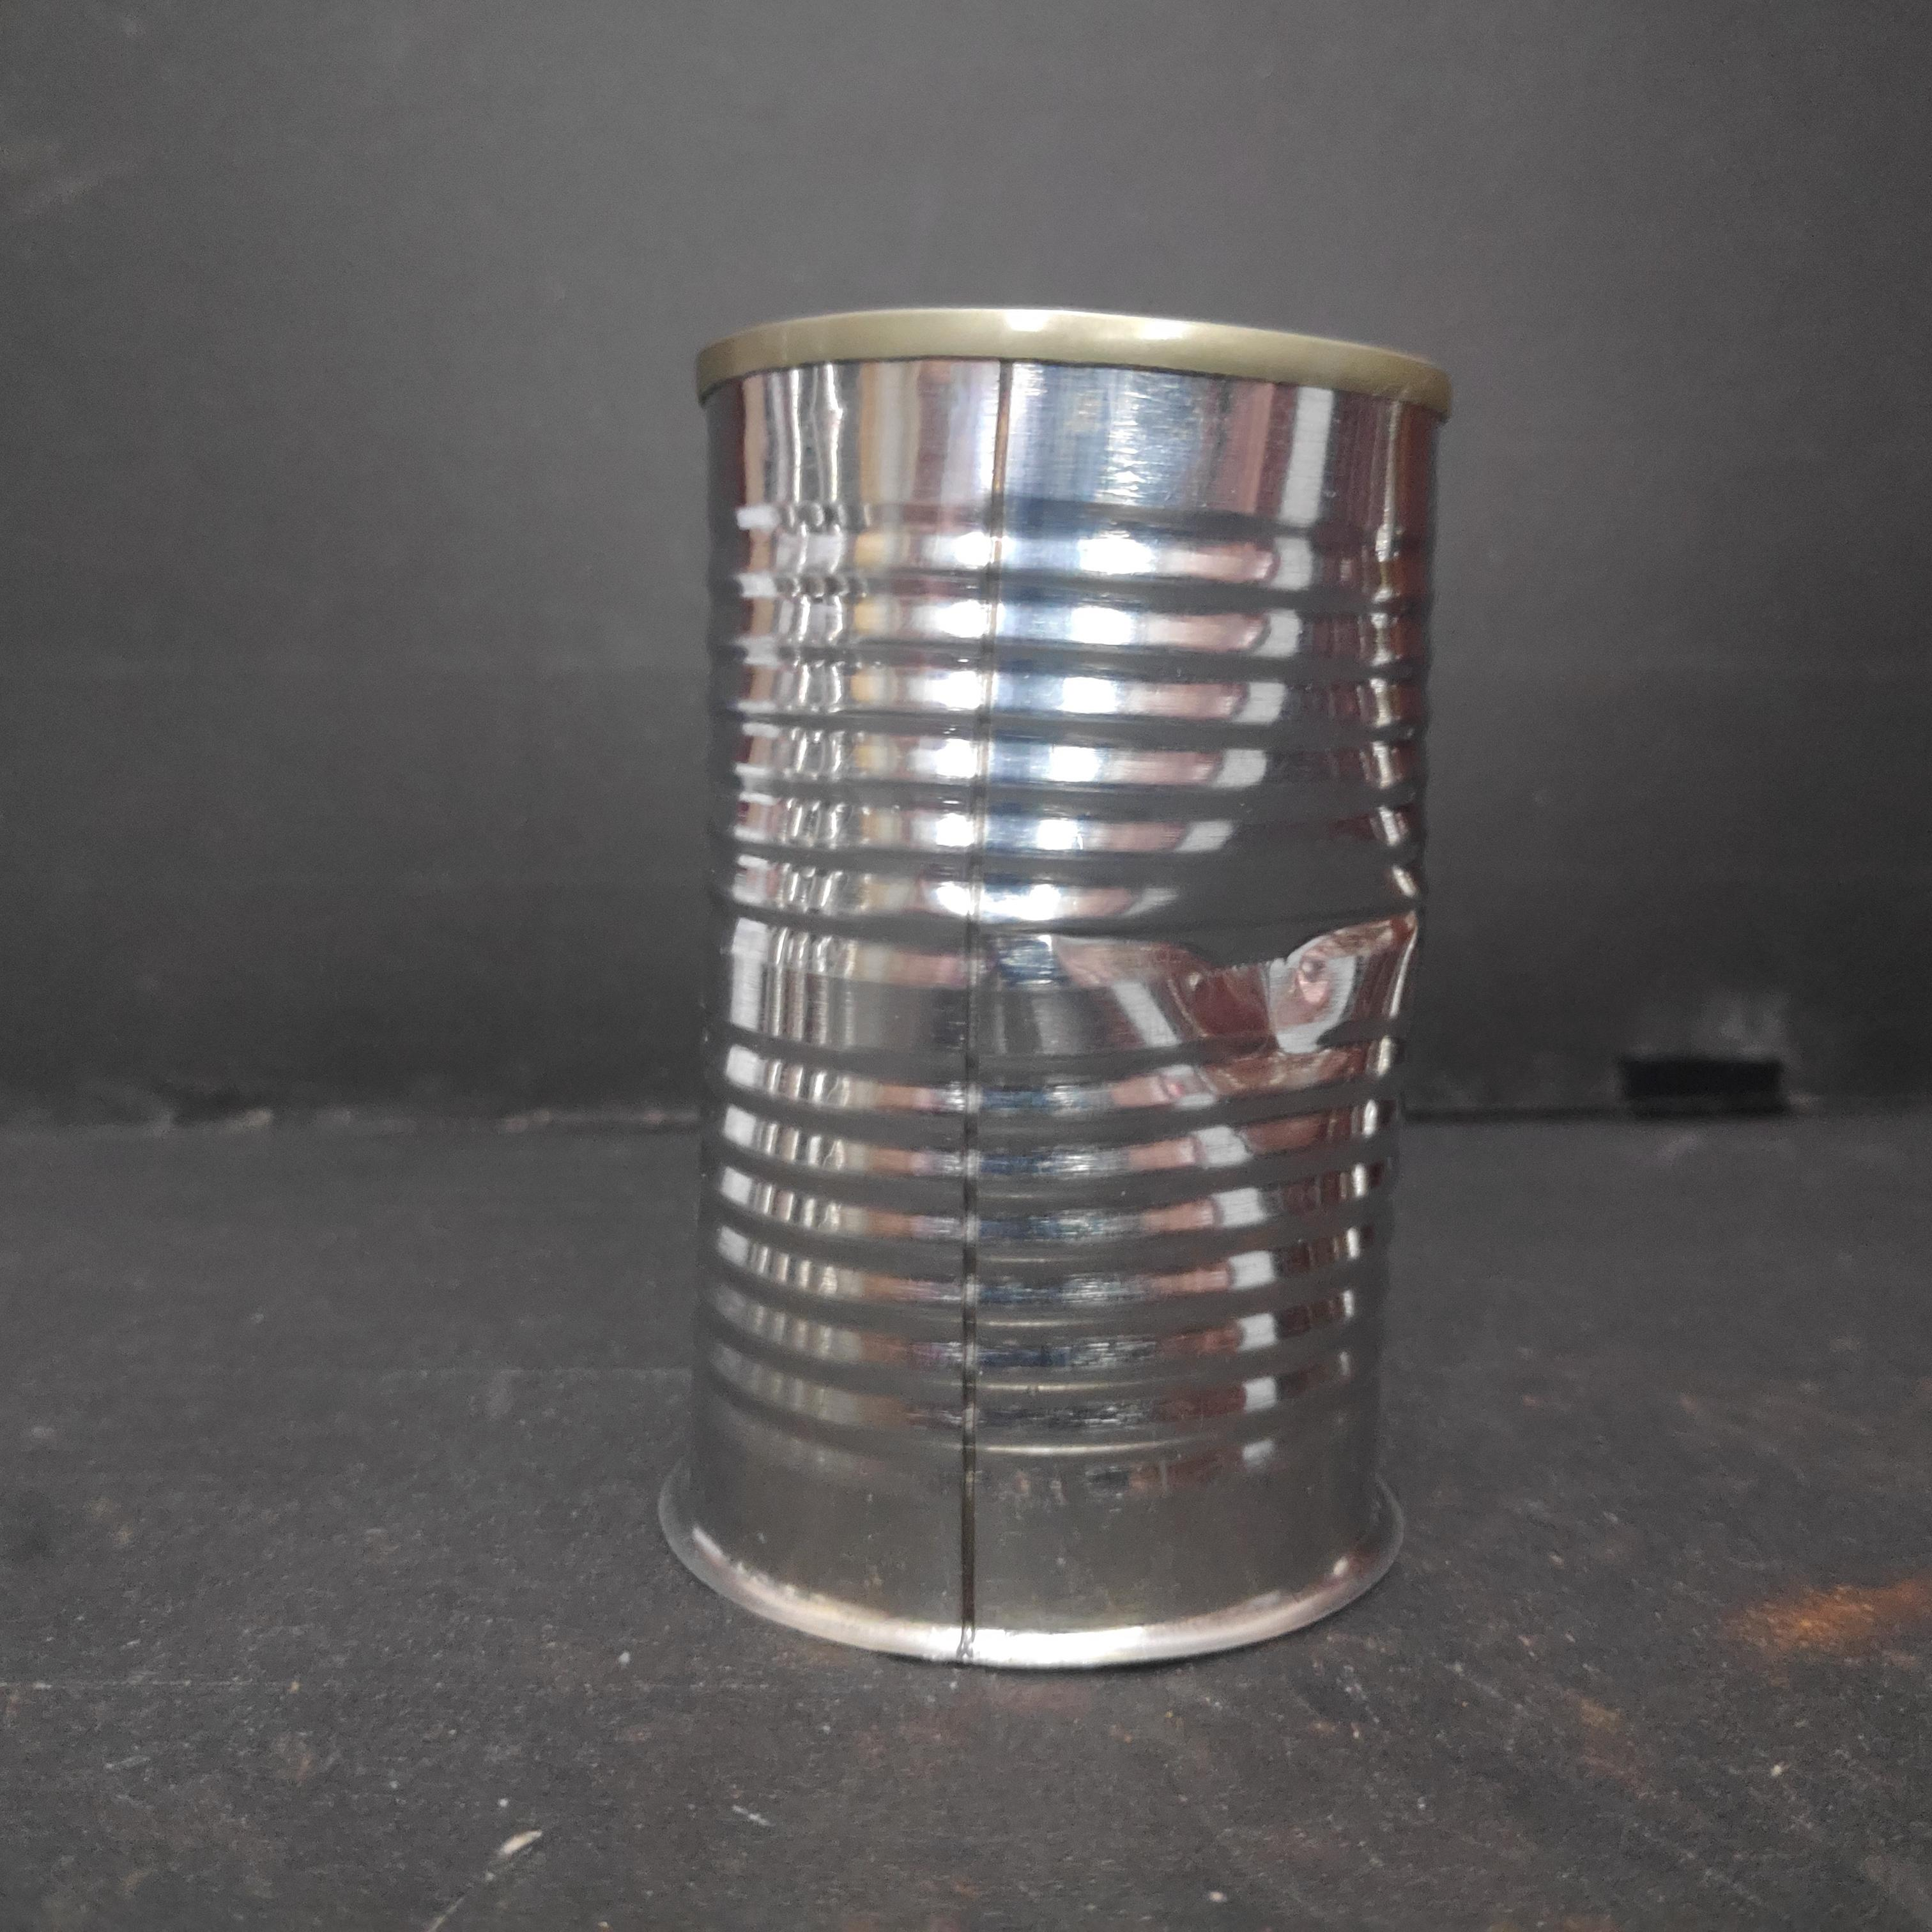Minor Defect: (678, 297, 1476, 1677)
